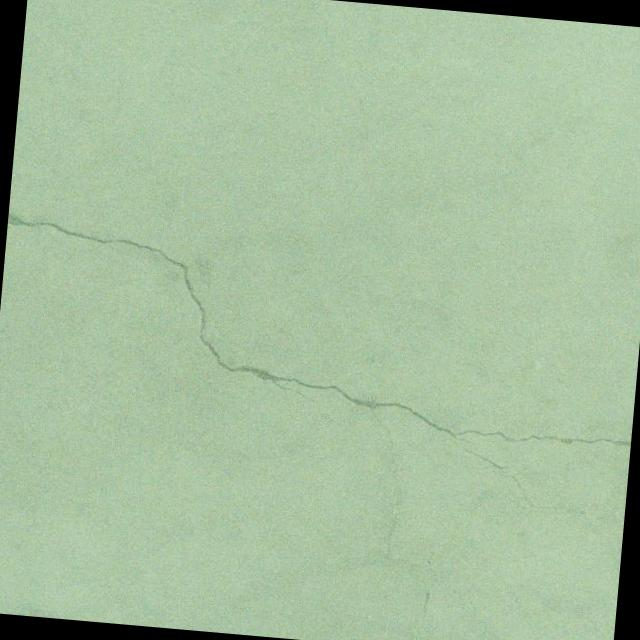crack: (0, 210, 640, 584), (494, 472, 626, 521), (413, 557, 444, 640), (450, 440, 513, 470)
